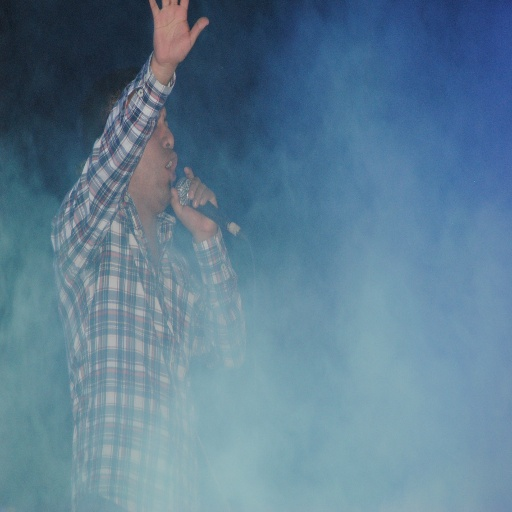hand: (141, 5, 201, 77), (168, 165, 219, 244)
